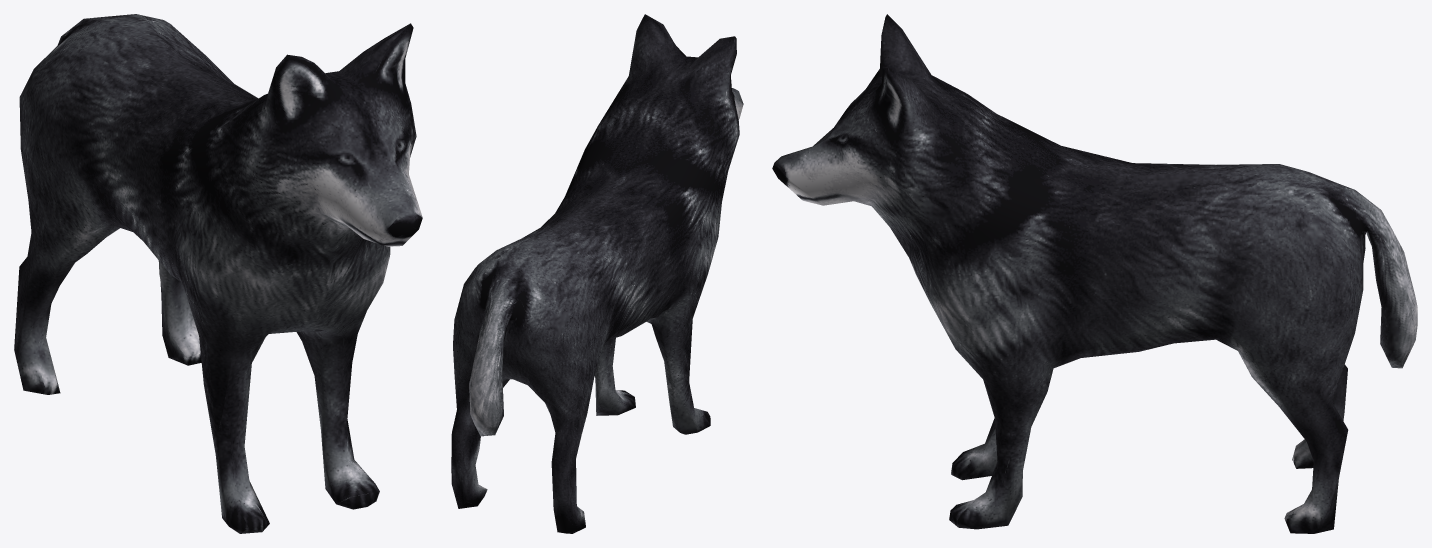
Rendered from uploads_files_5014570_Wolf_Low_Poly.fbx.
3 views of the same model, side by side, from view 1: azimuth 30°, elevation 25°; view 2: azimuth 150°, elevation 25°; view 3: azimuth 270°, elevation 25° (orthographic). The views are drawn at different scales.
Visible parts, largest first — view 1: Wolf_Low_Poly; view 2: Wolf_Low_Poly; view 3: Wolf_Low_Poly.
Boxes of the visible parts, x1,y1,x2,y2 form: Wolf_Low_Poly: (14,14,422,533); Wolf_Low_Poly: (451,14,743,533); Wolf_Low_Poly: (772,14,1417,533).
Size of the model in its own units: 40.15 by 109 by 139.
Materials: 1 (1 with a texture image).
